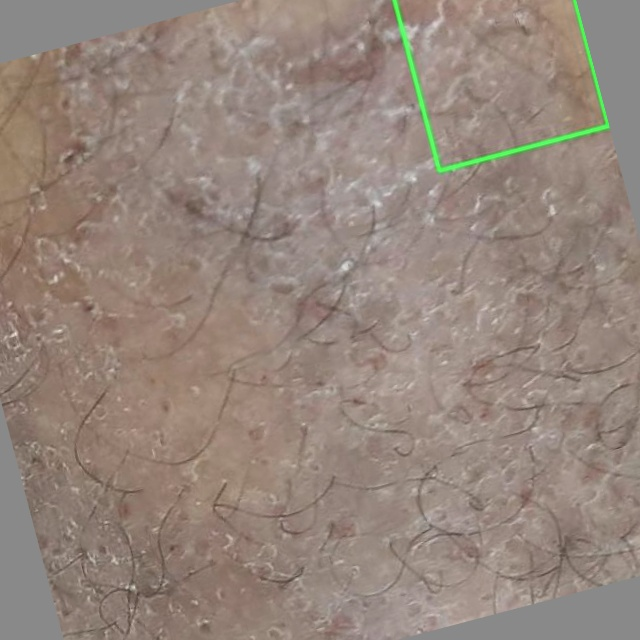Eczema: (394, 0, 608, 170)
